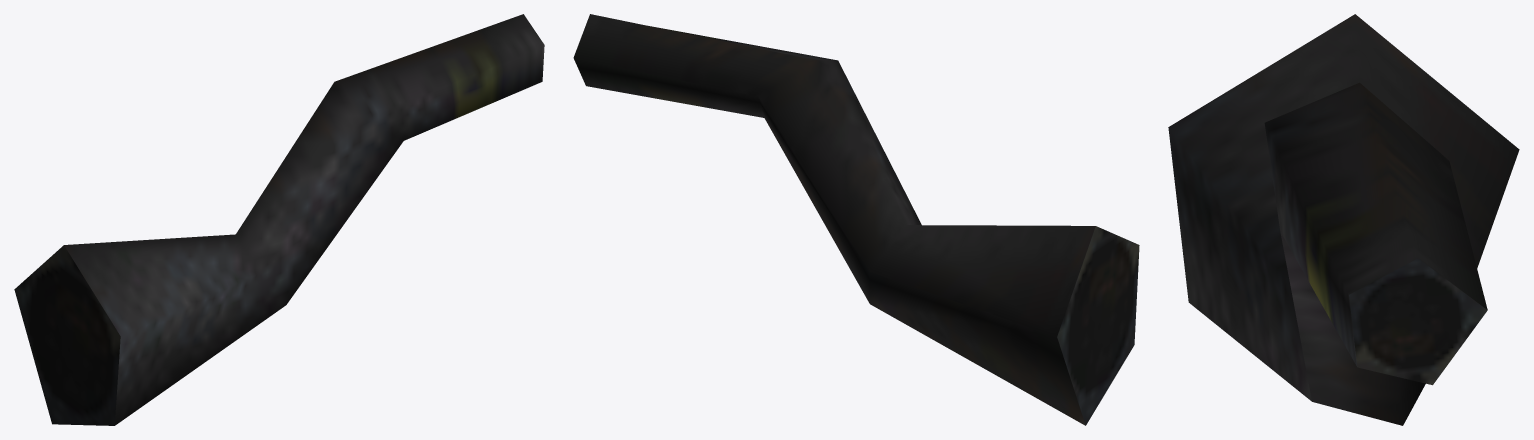
File: veh_t6_engine_part3_LOD0.obj
3 renders of one model, left to right at view 1: azimuth 30°, elevation 25°; view 2: azimuth 150°, elevation 25°; view 3: azimuth 270°, elevation 25°, orthographic. The views are drawn at different scales.
Parts seen in each view (by area): view 1: mtl_engine_destroy; view 2: mtl_engine_destroy; view 3: mtl_engine_destroy.
Boxes of the visible parts, x1,y1,x2,y2 form: mtl_engine_destroy: (14, 14, 544, 425); mtl_engine_destroy: (573, 14, 1139, 425); mtl_engine_destroy: (1168, 14, 1519, 425).
Size of the model in its own units: 50.34 by 28.71 by 16.77.
